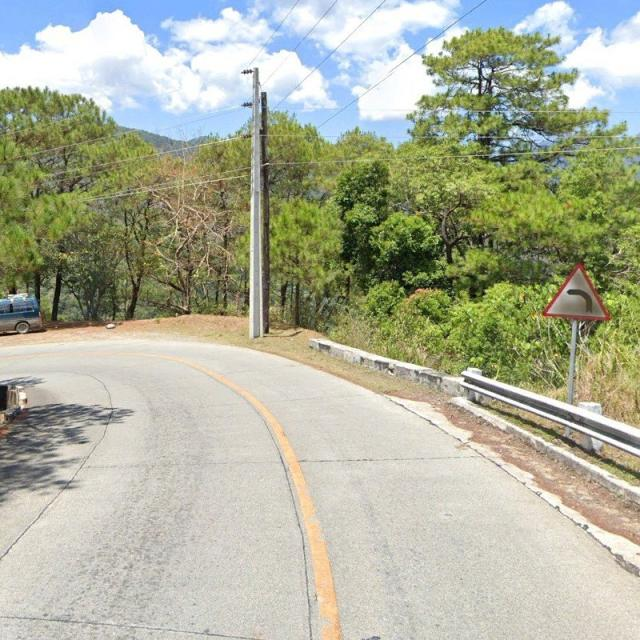warn_left_curve: (541, 263, 610, 320)
